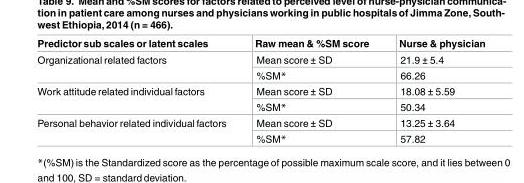table: (36, 36, 484, 144)
table column: (36, 36, 239, 144), (239, 36, 383, 144), (383, 36, 484, 144)
table column header: (36, 36, 484, 50)
table row: (36, 50, 484, 66), (36, 66, 484, 82), (36, 82, 484, 98), (36, 98, 484, 114), (36, 114, 484, 130), (36, 36, 484, 50), (36, 130, 484, 144)
table spanning cell: (36, 50, 239, 82), (36, 82, 239, 114), (36, 114, 239, 144)
